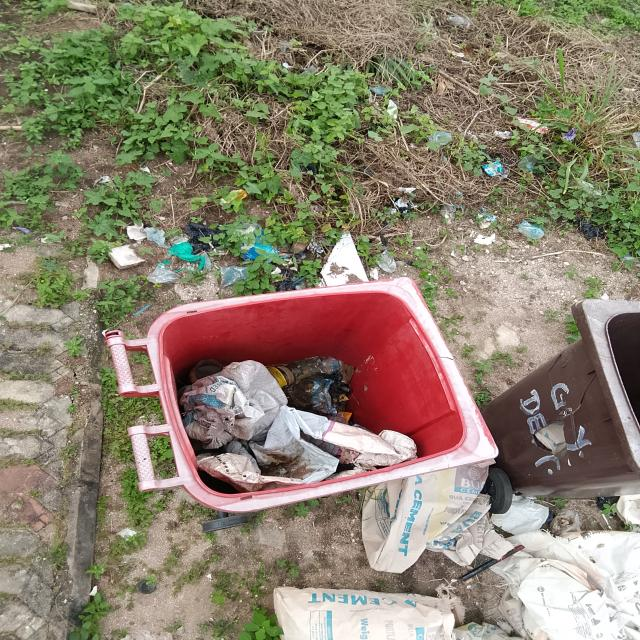overflowing: (140, 283, 501, 510)
